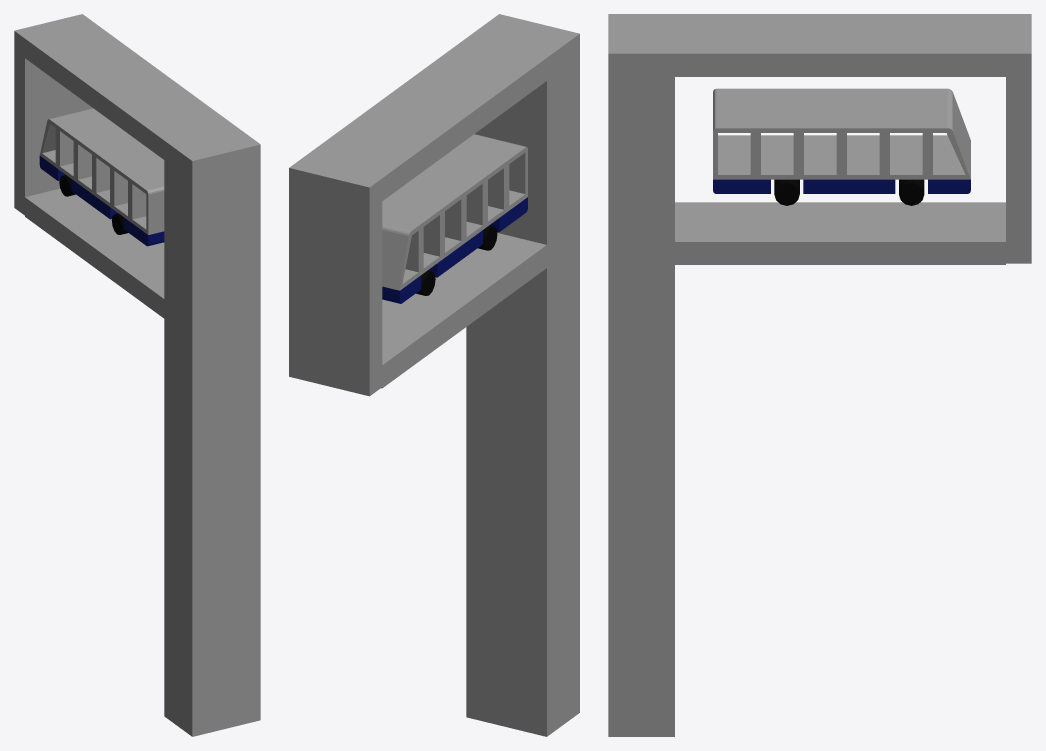
File: icon_bus_stop.obj
3 renders of one model, left to right at view 1: azimuth 30°, elevation 25°; view 2: azimuth 150°, elevation 25°; view 3: azimuth 270°, elevation 25°, orthographic. The views are drawn at different scales.
Visible parts, largest first — view 1: Shopping_cart.001_Cube.024; view 2: Shopping_cart.001_Cube.024; view 3: Shopping_cart.001_Cube.024.
Boxes of the visible parts, x1=… form: Shopping_cart.001_Cube.024: x1=14, y1=14, x2=260, y2=736; Shopping_cart.001_Cube.024: x1=289, y1=14, x2=579, y2=736; Shopping_cart.001_Cube.024: x1=608, y1=14, x2=1031, y2=736.
Bounding box in the file's own units: 0.617 × 4.97 × 2.79.
